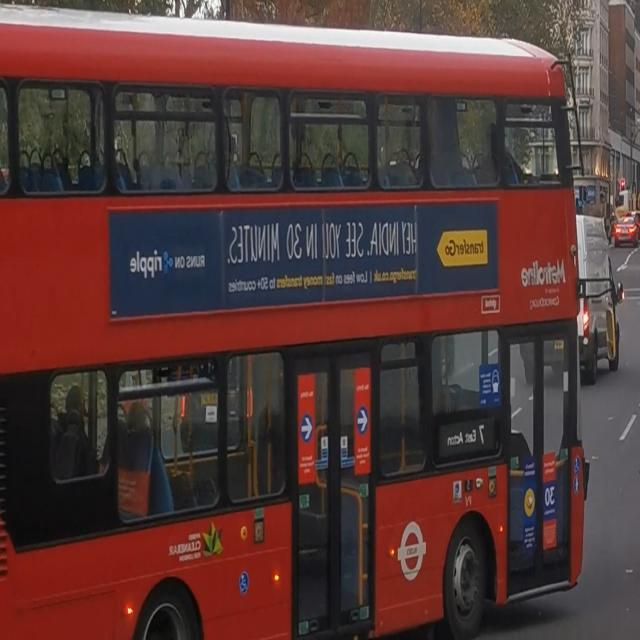Vehicle: (0, 42, 574, 640)
